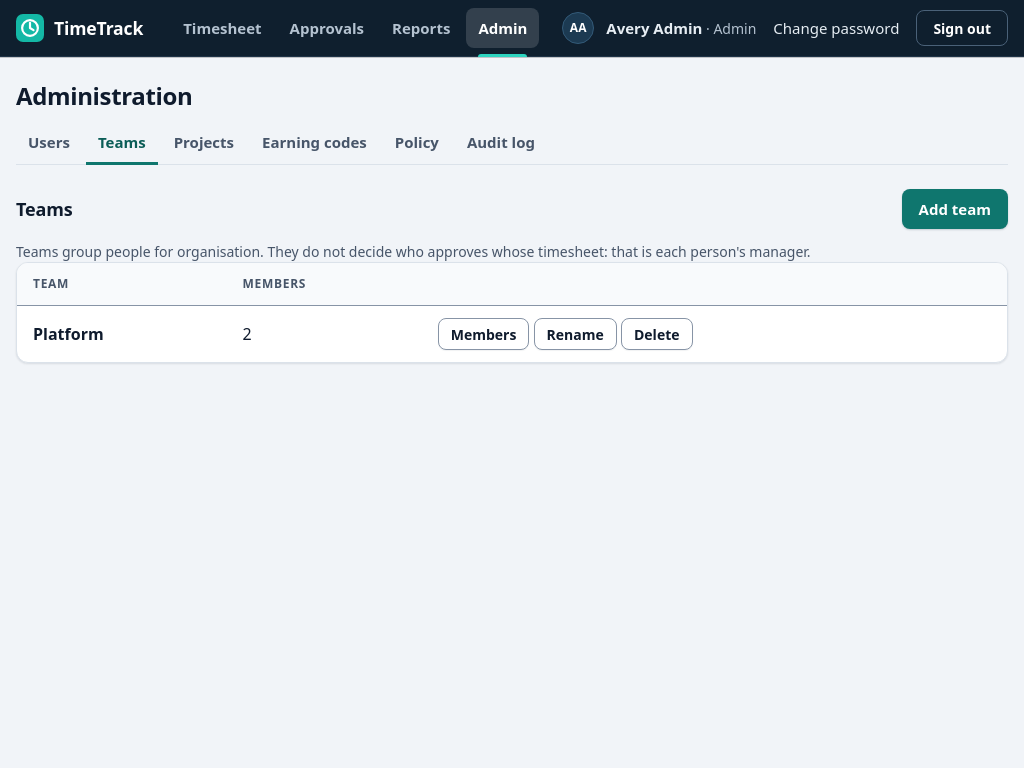
Test: teams › shows a duplicate name beside the field
Expected: the row with test id "team-row" is shown, [17,306,1007,362]
Step 1. Click the button "Add team" → {"x": 955, "y": 209}, box [902,189,1008,229]
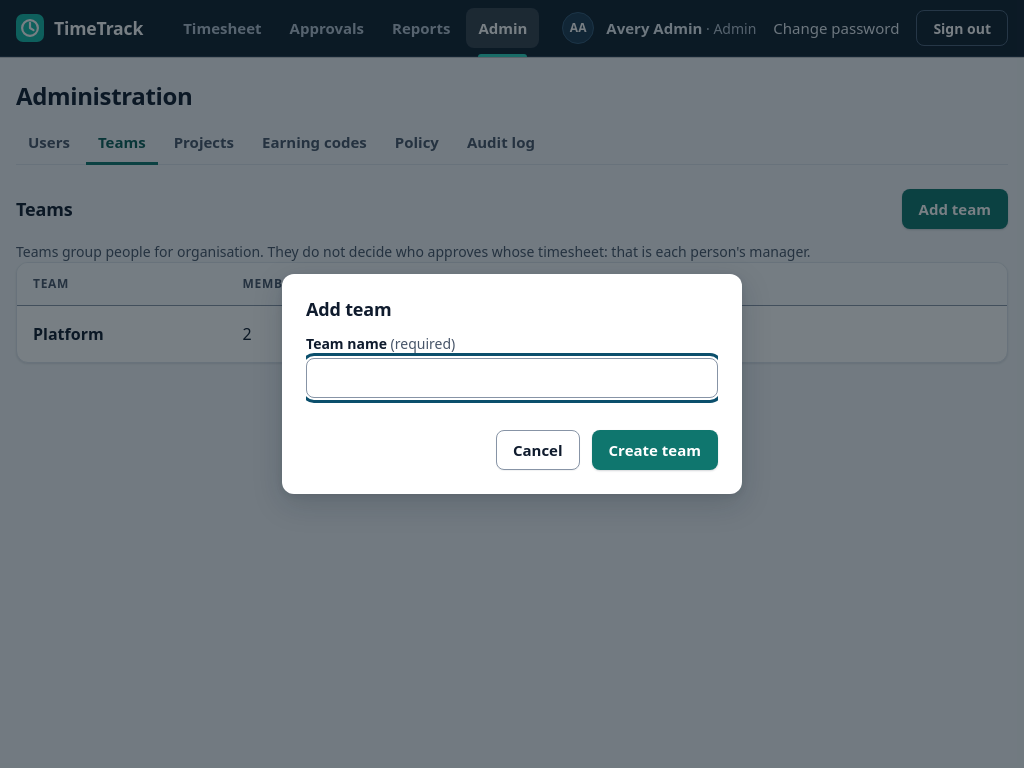
Step 2. Type "platform" into the field labelled "Team name (required)" → {"x": 512, "y": 378}, box [306,358,718,398]
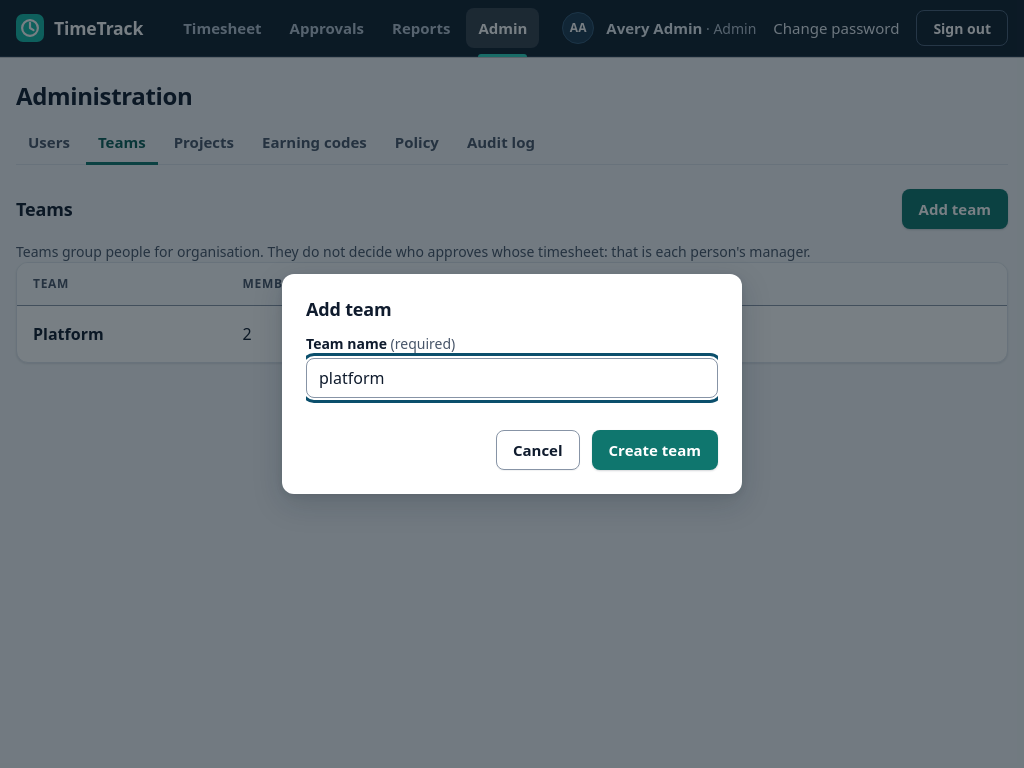
Step 3. Click the button "Create team" → {"x": 655, "y": 450}, box [592,430,718,470]
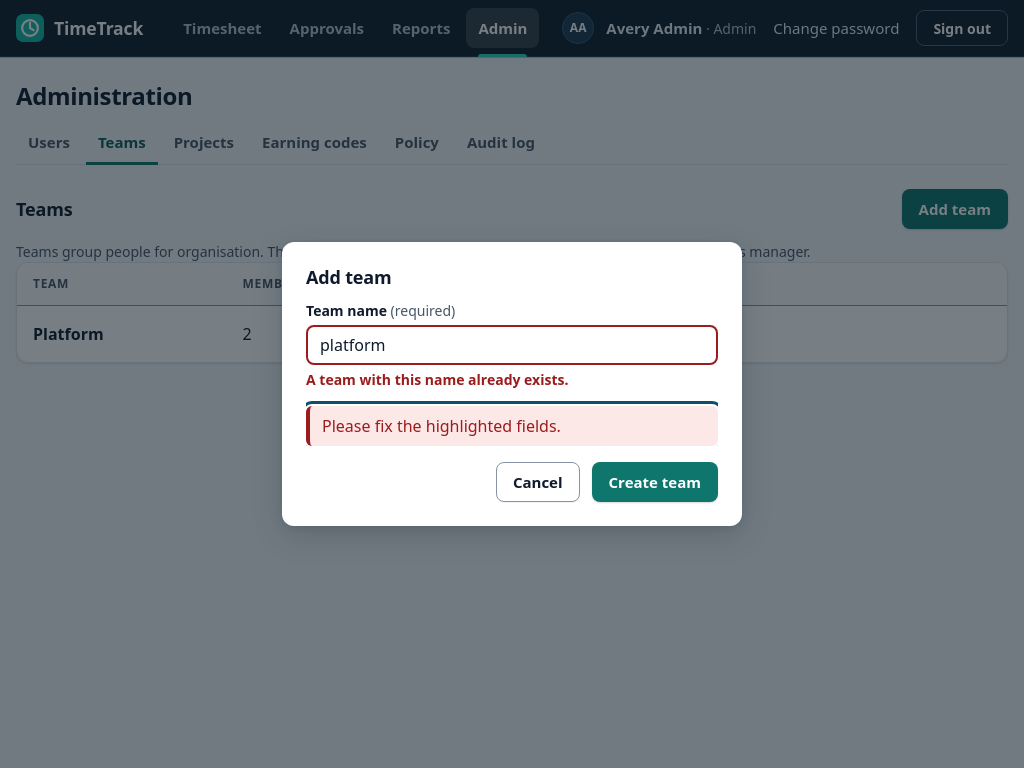
Result: the text "A team with this name already exists." is shown at [306,369,568,389]
